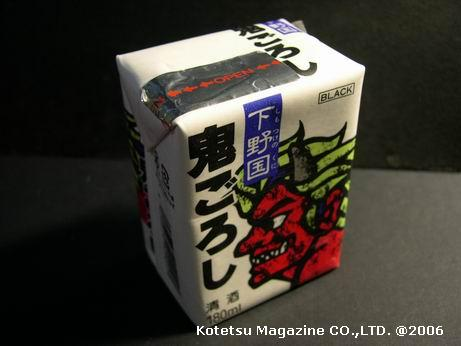鋁箔包: (109, 14, 374, 330)
